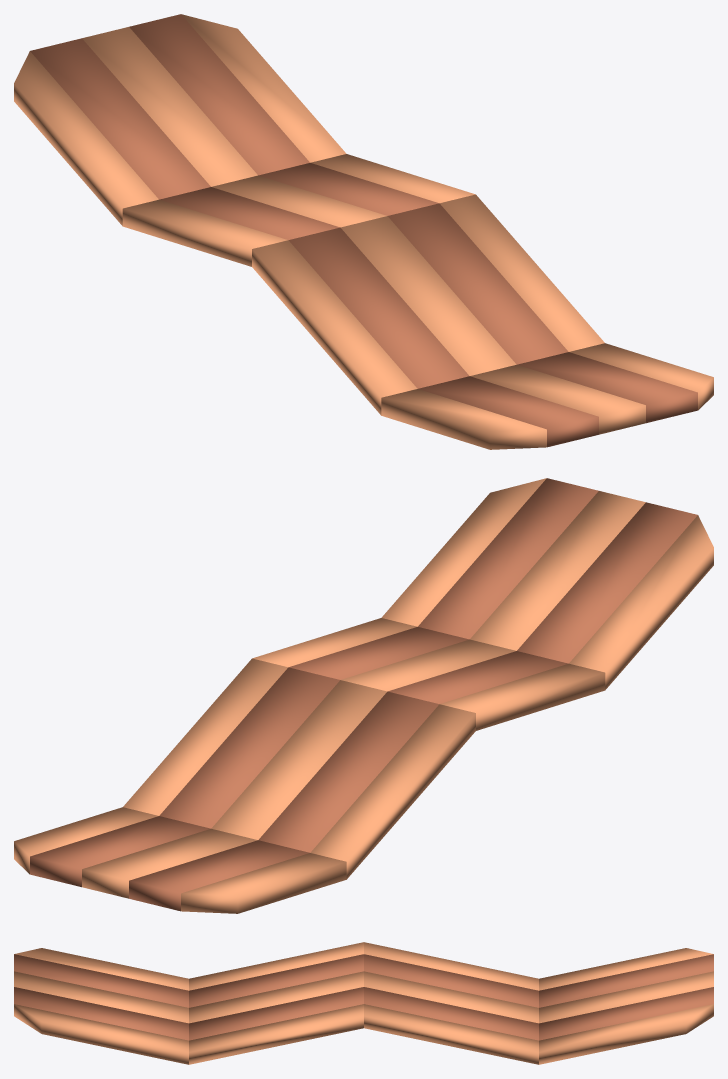
Rendered from bacon.GLB.
The picture shows the model from 3 angles, top to bottom: view 1: azimuth 30°, elevation 25°; view 2: azimuth 150°, elevation 25°; view 3: azimuth 270°, elevation 25°; orthographic projection. The views are drawn at different scales.
Parts seen in each view (by area): view 1: bacon; view 2: bacon; view 3: bacon.
Boxes of the visible parts, x1,y1,x2,y2 form: bacon: (14, 14, 713, 449); bacon: (14, 478, 713, 913); bacon: (14, 942, 713, 1064).
Bounding box in the file's own units: 0.13 × 0.04 × 0.52.
